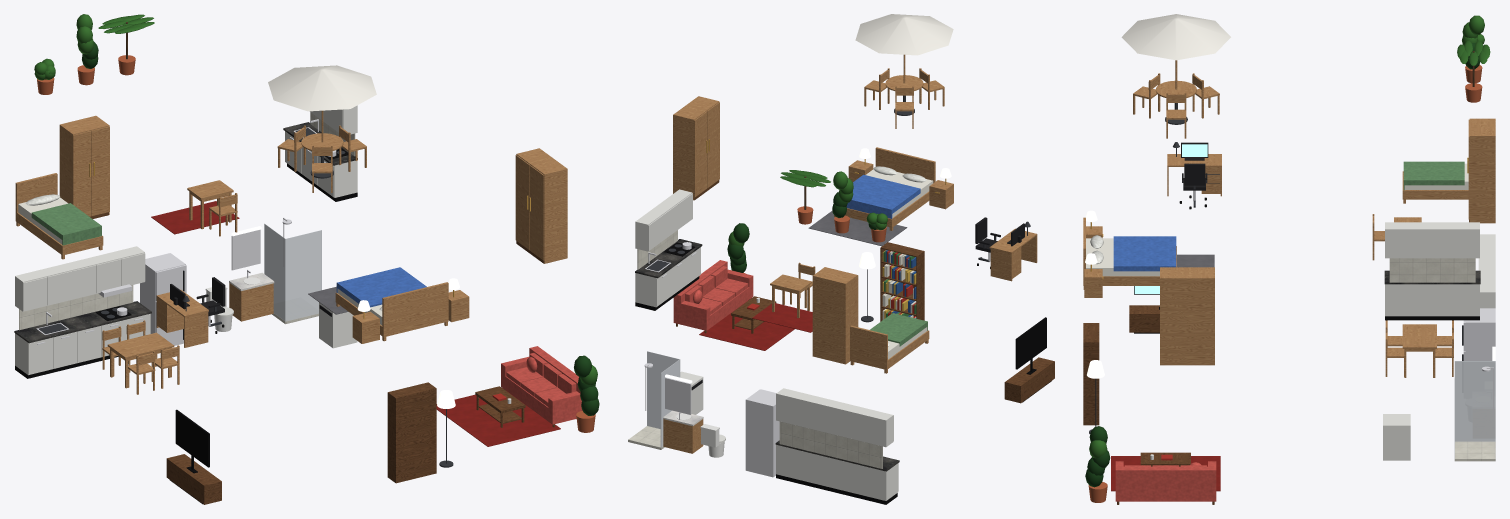
File: i_minimal_white_box.gltf
The picture shows the model from 3 angles, left to right: view 1: azimuth 30°, elevation 25°; view 2: azimuth 150°, elevation 25°; view 3: azimuth 270°, elevation 25°; orthographic projection. The views are drawn at different scales.
Visible parts, largest first — view 1: I_minimal_white_box; view 2: I_minimal_white_box; view 3: I_minimal_white_box.
Boxes of the visible parts, bbox=[...] form: I_minimal_white_box: bbox=[14, 14, 599, 504]; I_minimal_white_box: bbox=[628, 14, 1054, 504]; I_minimal_white_box: bbox=[1083, 14, 1495, 504].
Bounding box in the file's own units: 9.36 × 9.05 × 9.01.
35 materials, 13 textured.
